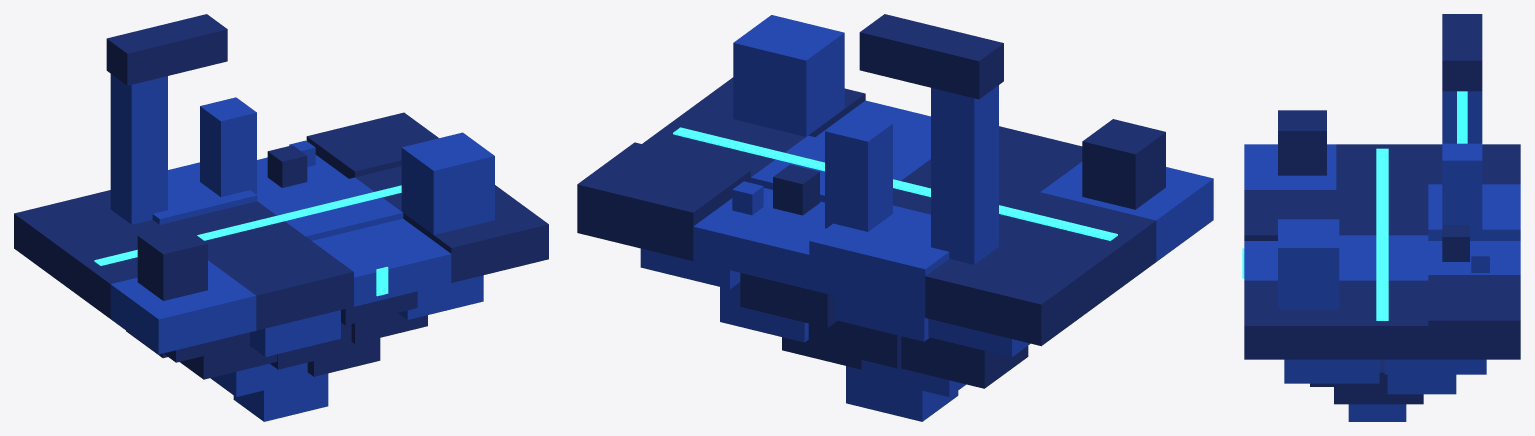
File: w01_island_slab.glb
The picture shows the model from 3 angles, left to right: view 1: azimuth 30°, elevation 25°; view 2: azimuth 150°, elevation 25°; view 3: azimuth 270°, elevation 25°; orthographic projection. The views are drawn at different scales.
Visible parts, largest first — view 1: Slab_Blue, Slab_Navy, Slab_Seams; view 2: Slab_Navy, Slab_Blue, Slab_Seams; view 3: Slab_Navy, Slab_Blue, Slab_Seams.
Part boxes in pixels (box(x1,y1,x2,y2)): Slab_Blue: box(110, 74, 494, 421); Slab_Navy: box(14, 14, 548, 379); Slab_Seams: box(94, 185, 401, 296); Slab_Navy: box(577, 14, 1165, 388); Slab_Blue: box(640, 15, 1213, 421); Slab_Seams: box(673, 127, 1117, 240); Slab_Navy: box(1244, 14, 1520, 404); Slab_Blue: box(1244, 91, 1520, 421); Slab_Seams: box(1242, 91, 1467, 320).
Bounding box in the file's own units: 14 × 12.12 × 9.06.
